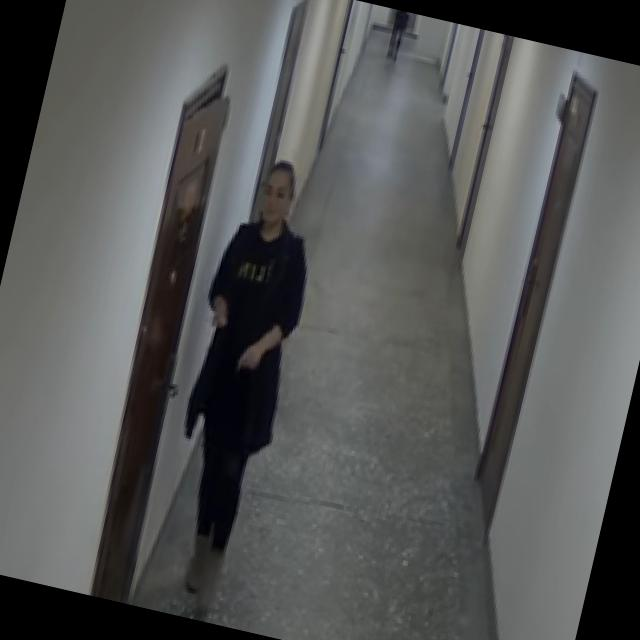person: (136, 150, 334, 624)
